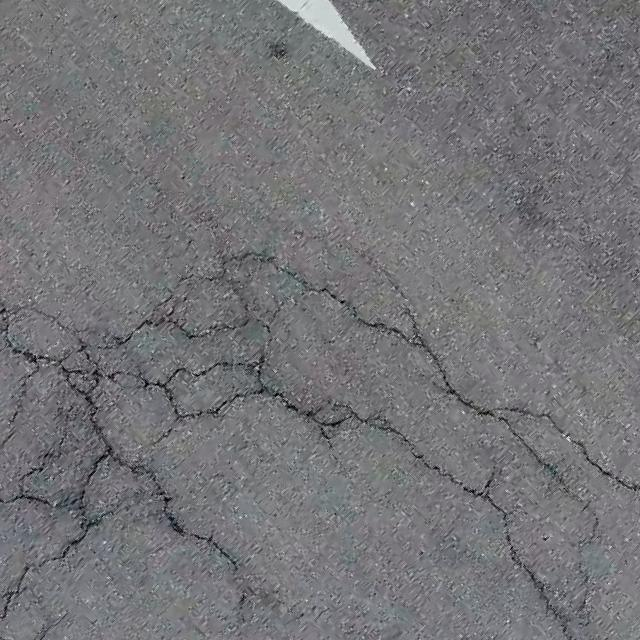GRIETA: (306, 232, 419, 330)
PIEL DE COCODRILO: (0, 248, 639, 639)
